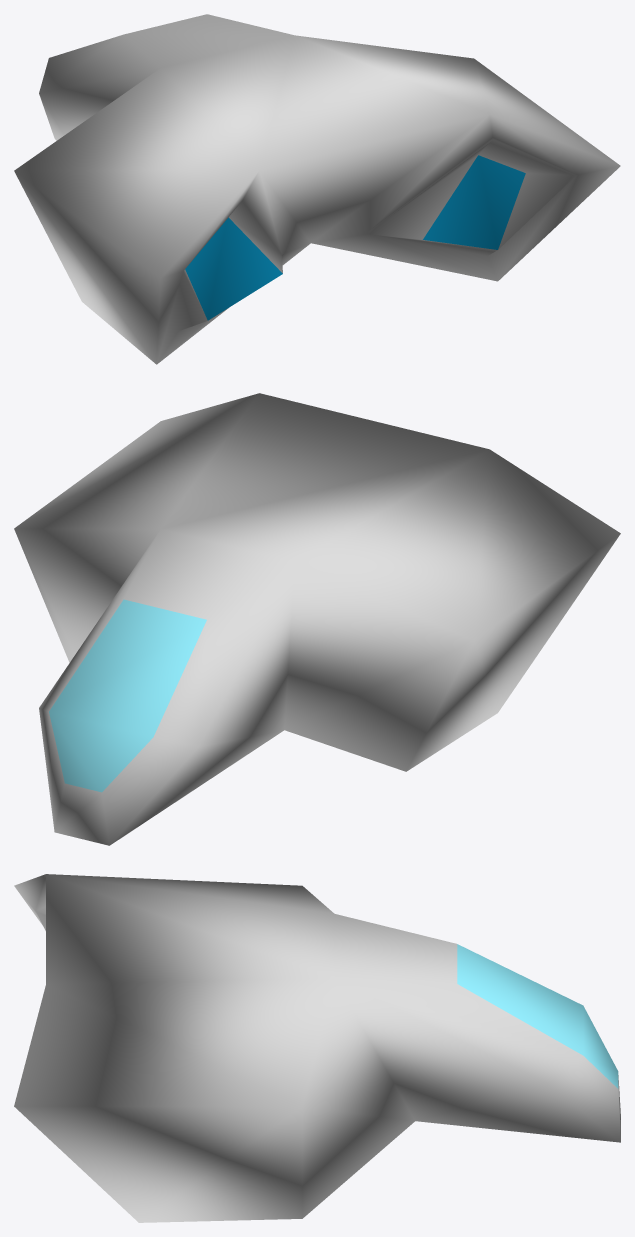
Rendered from Fermat.obj.
3 views of the same model, one above another, from view 1: azimuth 30°, elevation 25°; view 2: azimuth 150°, elevation 25°; view 3: azimuth 270°, elevation 25° (orthographic).
Visible parts, largest first — view 1: Body_Body, Body_Thrusters; view 2: Body_Body, Body_Glass; view 3: Body_Body, Body_Glass.
Boxes of the visible parts, box(x1,y1,x2,y2) form: Body_Body: box(14, 14, 620, 364); Body_Thrusters: box(185, 155, 525, 320); Body_Body: box(14, 393, 620, 845); Body_Glass: box(49, 599, 206, 792); Body_Body: box(14, 874, 620, 1222); Body_Glass: box(457, 944, 618, 1088).
Size of the model in its own units: 1.4 by 0.6247 by 1.62.
